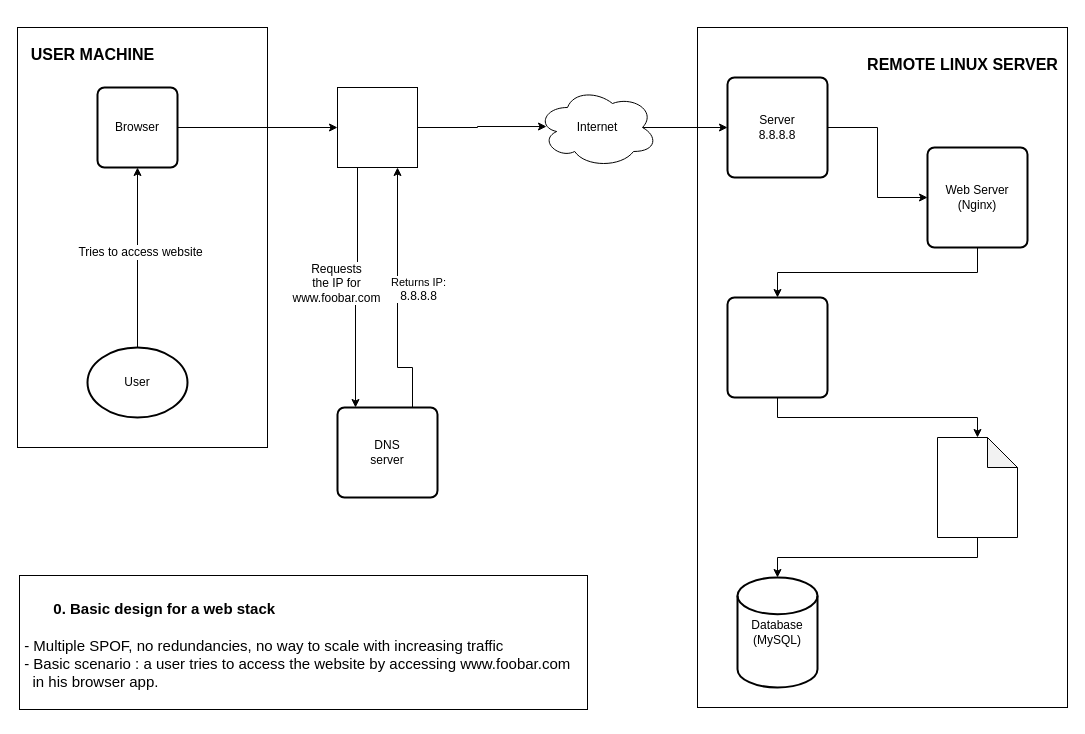
Image size: 1085x734. Some labels were removed from this diagram. Here are the shapes that lost their labels. From the top down, the centre of each, then its label:
At pixel 377 127: "User router".
At pixel 777 347: "Application server".
At pixel 977 487: "Code base".
